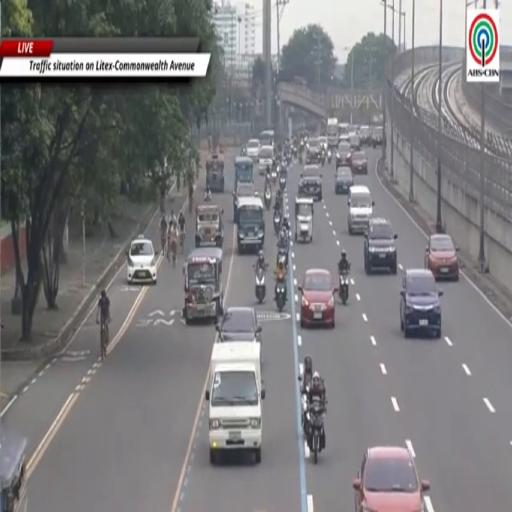car: (353, 446, 430, 511), (400, 269, 443, 339), (298, 269, 337, 328), (364, 218, 397, 275), (425, 234, 459, 281), (216, 307, 261, 342), (127, 235, 157, 284), (233, 183, 257, 222), (298, 165, 322, 201), (335, 166, 353, 194), (306, 138, 322, 164), (351, 152, 368, 174), (336, 142, 350, 166), (246, 139, 260, 163), (371, 126, 384, 148), (360, 125, 371, 145), (349, 133, 361, 150), (319, 136, 327, 151)
jeepney: (183, 248, 223, 324), (0, 428, 27, 511), (237, 197, 264, 253), (195, 204, 223, 247), (233, 184, 258, 222), (295, 198, 313, 242), (206, 154, 224, 191), (235, 156, 253, 188)
motorcycle: (308, 403, 323, 463), (301, 388, 310, 439), (255, 265, 267, 303), (275, 281, 286, 312), (339, 274, 348, 305), (277, 247, 288, 267), (264, 186, 272, 210), (273, 212, 281, 234), (280, 174, 286, 191), (271, 169, 277, 185), (204, 192, 212, 202), (241, 144, 247, 155), (321, 150, 325, 166), (328, 149, 332, 164), (292, 146, 297, 157), (298, 152, 302, 164)
truck: (206, 342, 264, 465), (327, 118, 338, 150)
